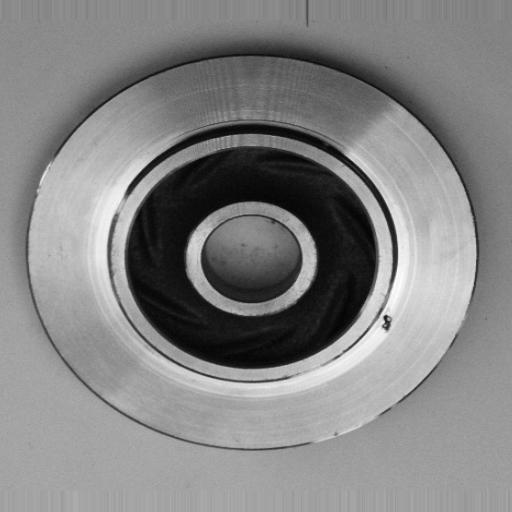crack: (372, 308, 402, 340)
scratch: (290, 400, 390, 465)
unpolished_casting: (28, 51, 481, 457)
